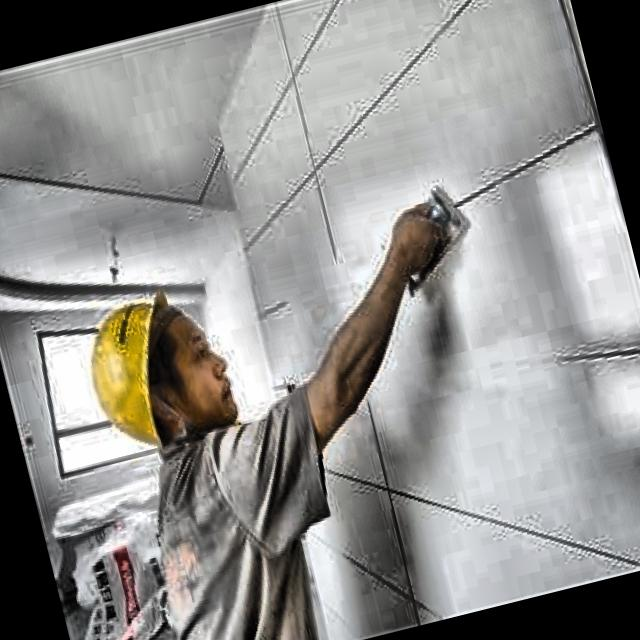helmet: (56, 266, 261, 486)
